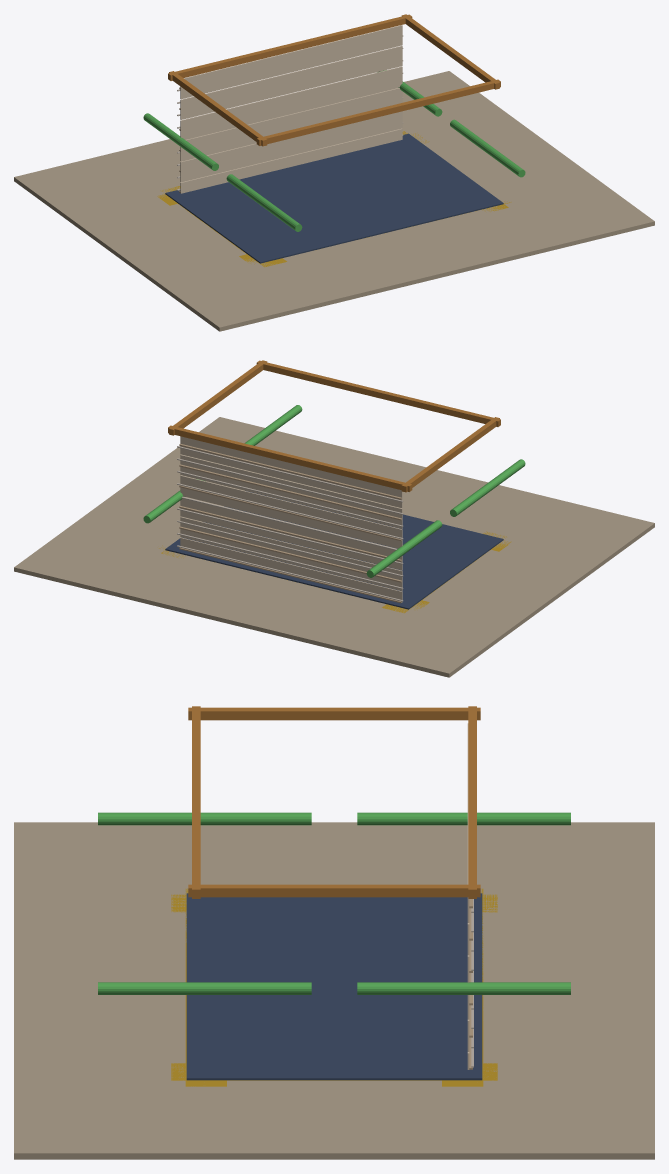
File: stage_06_walls.glb
3 renders of one model, top to bottom at view 1: azimuth 30°, elevation 25°; view 2: azimuth 150°, elevation 25°; view 3: azimuth 270°, elevation 25°, orthographic. The views are drawn at different scales.
Visible parts, largest first — view 1: world; view 2: world; view 3: world.
Part boxes in pixels (x1,y1,x2,y2): world: [14, 14, 654, 331]; world: [14, 360, 654, 677]; world: [14, 706, 654, 1159].
Size of the model in its own units: 11 by 3.74 by 9.
